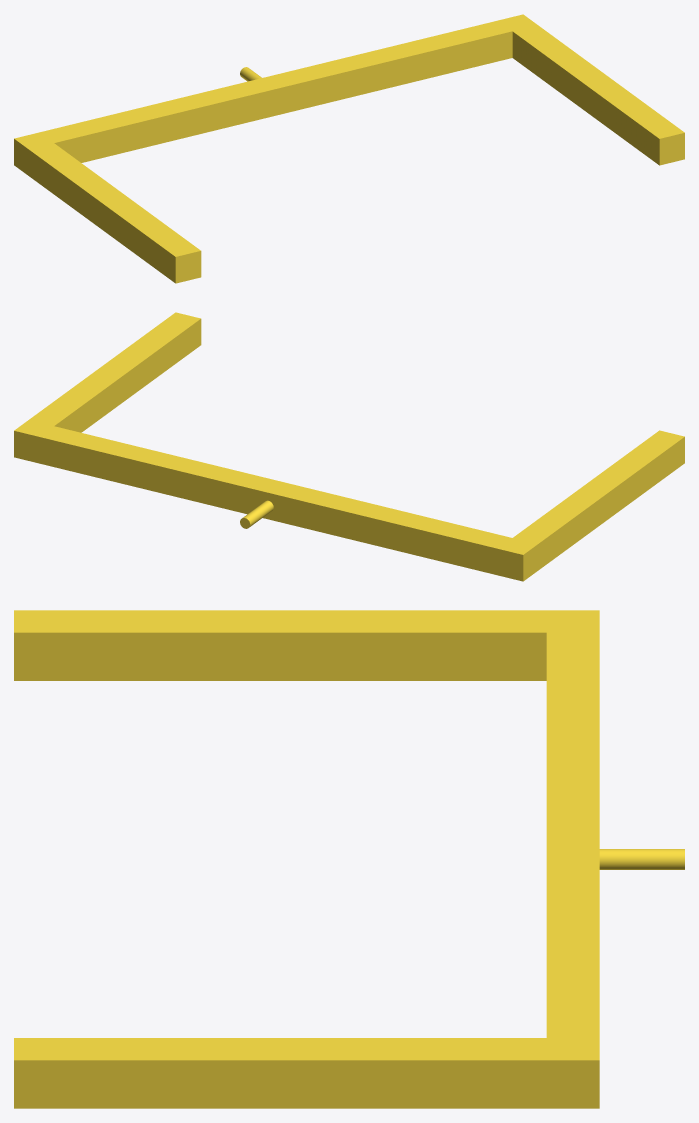
Rendered from Gimbal1.gltf.
3 views of the same model, one above another, from view 1: azimuth 30°, elevation 25°; view 2: azimuth 150°, elevation 25°; view 3: azimuth 270°, elevation 25° (orthographic). The views are drawn at different scales.
Parts seen in each view (by area): view 1: Part 1; view 2: Part 1; view 3: Part 1.
Boxes of the visible parts, <box> form: Part 1: <box>14,14,684,283</box>; Part 1: <box>14,312,684,581</box>; Part 1: <box>14,610,684,1108</box>.
Size of the model in its own units: 0.1 by 0.005 by 0.063.
